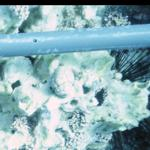dead: (1, 5, 149, 149)
